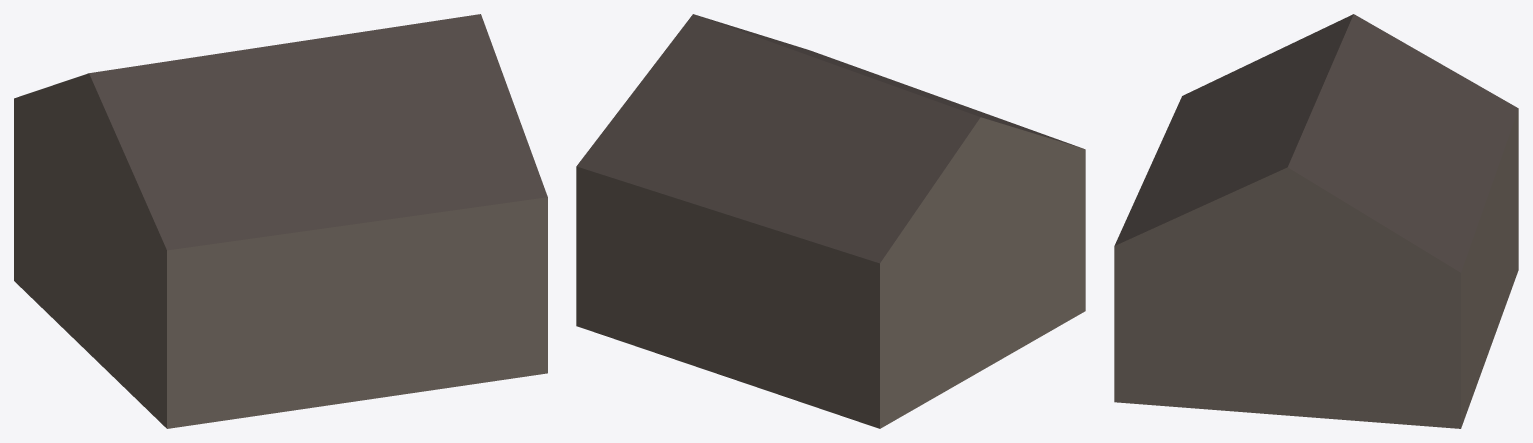
3 views of the same model, side by side, from view 1: azimuth 30°, elevation 25°; view 2: azimuth 150°, elevation 25°; view 3: azimuth 270°, elevation 25° (orthographic). The views are drawn at different scales.
Parts seen in each view (by area): view 1: HP-w1515071128; view 2: HP-w1515071128; view 3: HP-w1515071128.
Boxes of the visible parts, x1,y1,x2,y2 form: HP-w1515071128: (14,14,547,428); HP-w1515071128: (576,14,1085,428); HP-w1515071128: (1114,14,1518,428).
Bounding box in the file's own units: 14.41 × 9.54 × 14.08.
